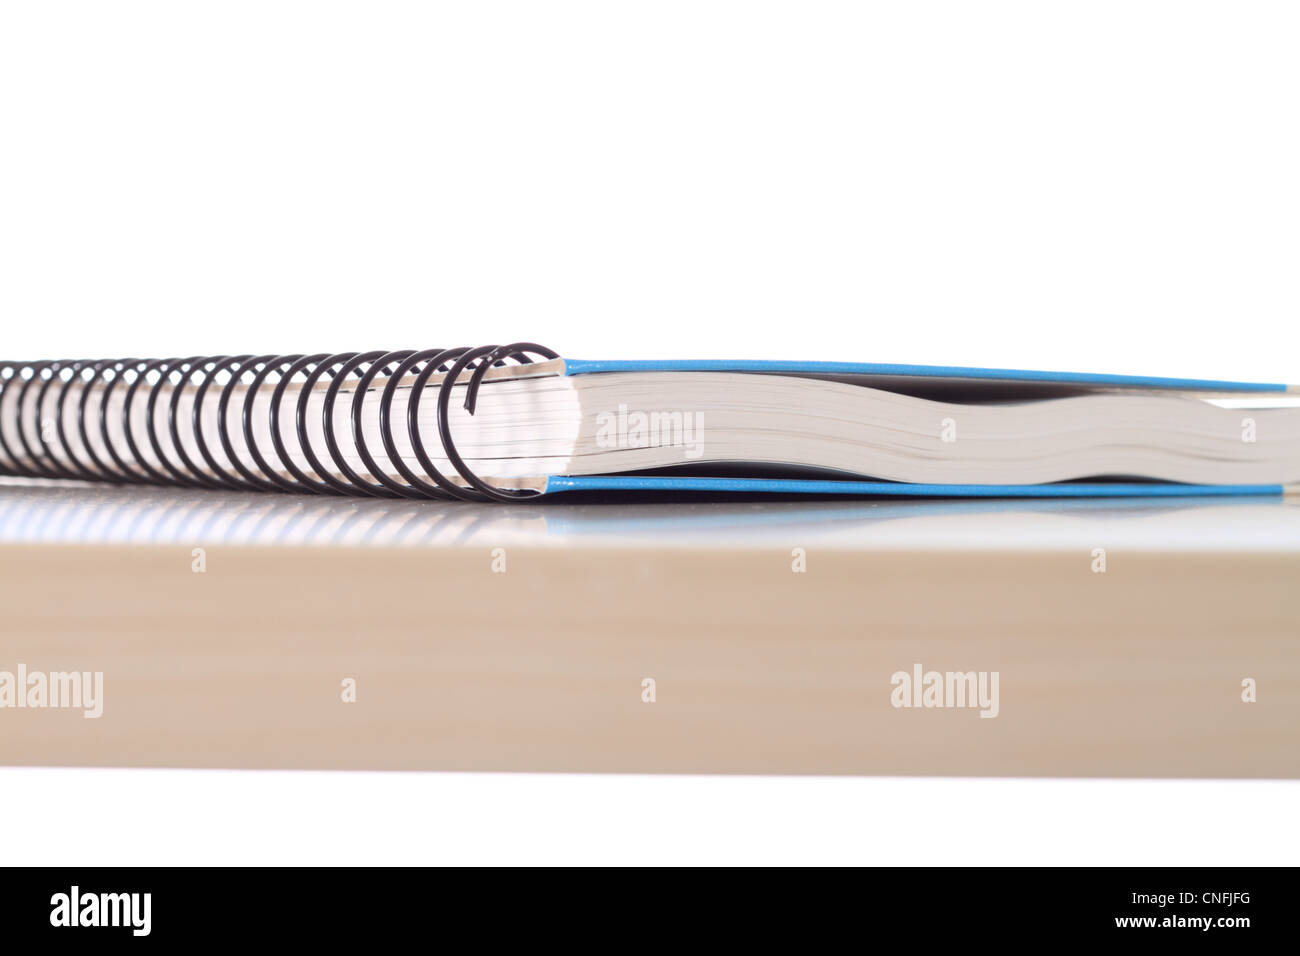book: (1, 315, 1286, 530)
